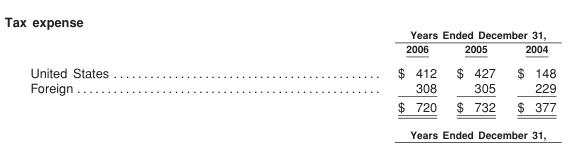table: (29, 28, 555, 113)
table column: (29, 28, 252, 113), (252, 28, 445, 113), (445, 28, 505, 113), (505, 28, 555, 113)
table column header: (29, 28, 555, 59)
table row: (29, 59, 555, 79), (29, 41, 555, 59), (29, 79, 555, 96), (29, 96, 555, 113), (29, 28, 555, 41)
table spanning cell: (252, 28, 555, 41)
